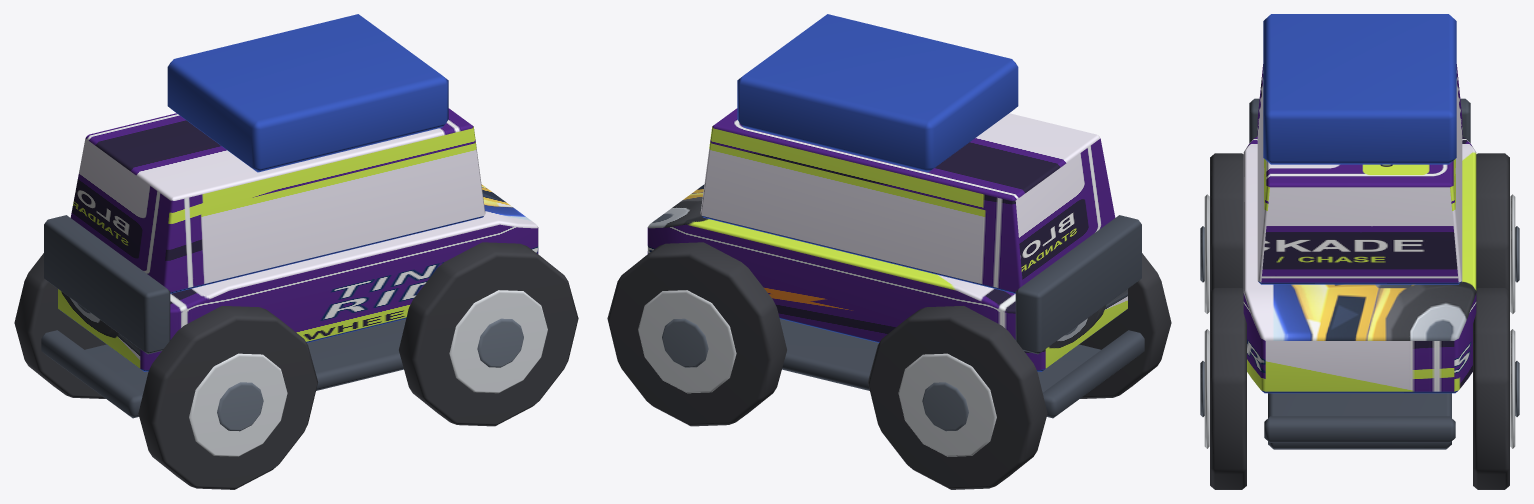
The picture shows the model from 3 angles, left to right: view 1: azimuth 30°, elevation 25°; view 2: azimuth 150°, elevation 25°; view 3: azimuth 270°, elevation 25°; orthographic projection. The views are drawn at different scales.
Visible parts, largest first — view 1: BW-02_cabin, armored roof canopy, BW-02_connected_shell, Tire.002, Tire, armored face guard, Rim, Rim.002, underbody, Tire.001, front bumper, Hub.002 (+1 smaller); view 2: BW-02_cabin, armored roof canopy, BW-02_connected_shell, Tire.003, Tire.001, armored face guard, Rim.001, Rim.003, underbody, Tire, front bumper, Hub.003 (+1 smaller); view 3: armored roof canopy, BW-02_connected_shell, BW-02_cabin, Tire.002, Tire.003, underbody, rear bumper, Tire, Tire.001, armored face guard, Rim.002, Rim.003 (+2 smaller).
Part boxes in pixels (<box>): BW-02_cabin: <box>70,108,485,293</box>; armored roof canopy: <box>167,14,448,172</box>; BW-02_connected_shell: <box>58,184,538,371</box>; Tire.002: <box>399,242,578,426</box>; Tire: <box>138,306,317,489</box>; armored face guard: <box>44,215,170,354</box>; Rim: <box>189,353,287,456</box>; Rim.002: <box>449,290,547,393</box>; underbody: <box>85,319,405,392</box>; Tire.001: <box>14,253,106,398</box>; front bumper: <box>41,330,143,418</box>; Hub.002: <box>477,318,523,367</box>; BW-02_cabin: <box>700,108,1115,293</box>; armored roof canopy: <box>737,14,1018,172</box>; BW-02_connected_shell: <box>647,184,1127,371</box>; Tire.003: <box>607,242,786,426</box>; Tire.001: <box>868,306,1047,489</box>; armored face guard: <box>1015,215,1141,354</box>; Rim.001: <box>898,353,996,456</box>; Rim.003: <box>638,290,736,393</box>; underbody: <box>780,319,1100,392</box>; Tire: <box>1079,253,1171,398</box>; front bumper: <box>1042,330,1144,418</box>; Hub.003: <box>662,318,708,367</box>; armored roof canopy: <box>1263,14,1456,164</box>; BW-02_connected_shell: <box>1243,136,1476,393</box>; BW-02_cabin: <box>1257,64,1462,284</box>; Tire.002: <box>1210,288,1246,489</box>; Tire.003: <box>1473,288,1509,489</box>; underbody: <box>1268,393,1451,449</box>; rear bumper: <box>1264,416,1455,442</box>; Tire: <box>1210,153,1243,291</box>; Tire.001: <box>1476,153,1509,291</box>; armored face guard: <box>1249,98,1470,142</box>; Rim.002: <box>1204,329,1209,448</box>; Rim.003: <box>1510,329,1515,448</box>.
Size of the model in its own units: 368 by 279 by 225.
